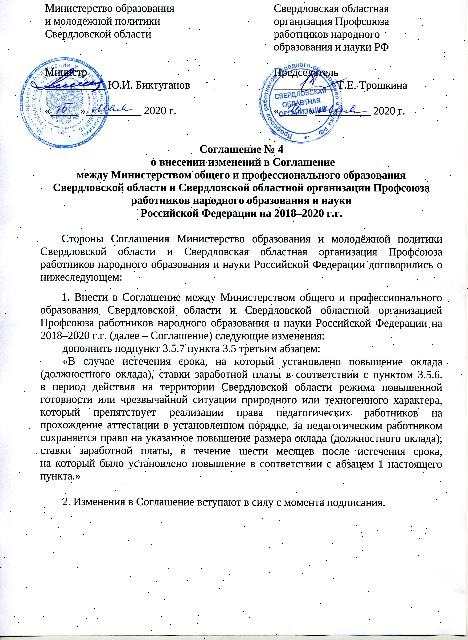stamp: (21, 59, 110, 148), (260, 63, 342, 144)
